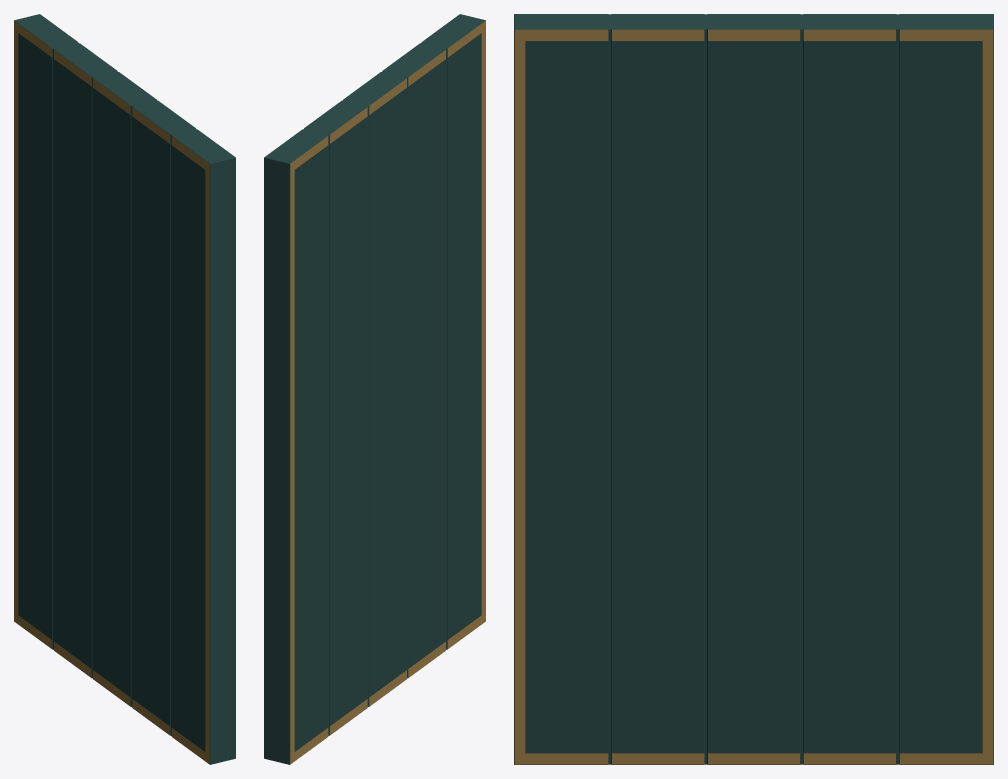
The model's file is ArchiveDoor_v1.fbx.
3 renders of one model, left to right at view 1: azimuth 30°, elevation 25°; view 2: azimuth 150°, elevation 25°; view 3: azimuth 270°, elevation 25°, orthographic. The views are drawn at different scales.
Visible parts, largest first — view 1: Door; view 2: Door; view 3: Door.
Part boxes in pixels (box(x1,y1,x2,y2)): Door: box(14, 14, 235, 764); Door: box(264, 14, 485, 764); Door: box(514, 14, 993, 764).
Bounding box in the file's own units: 0.1 × 2.2 × 1.3.
